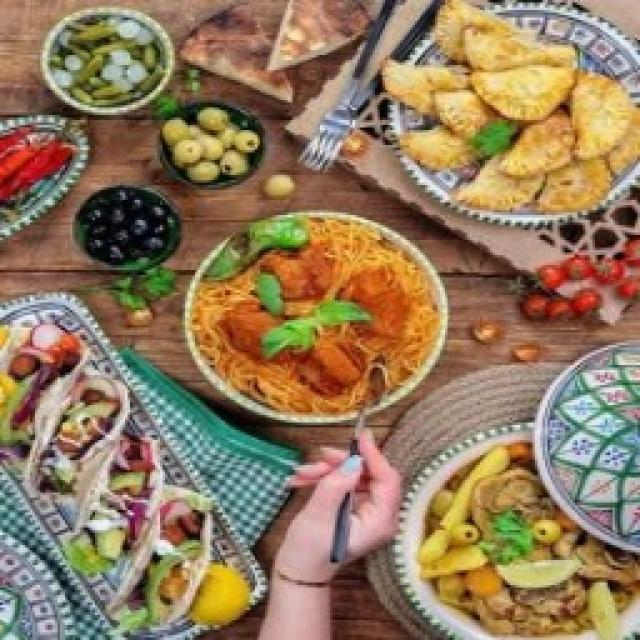Pasta: (190, 216, 440, 413)
